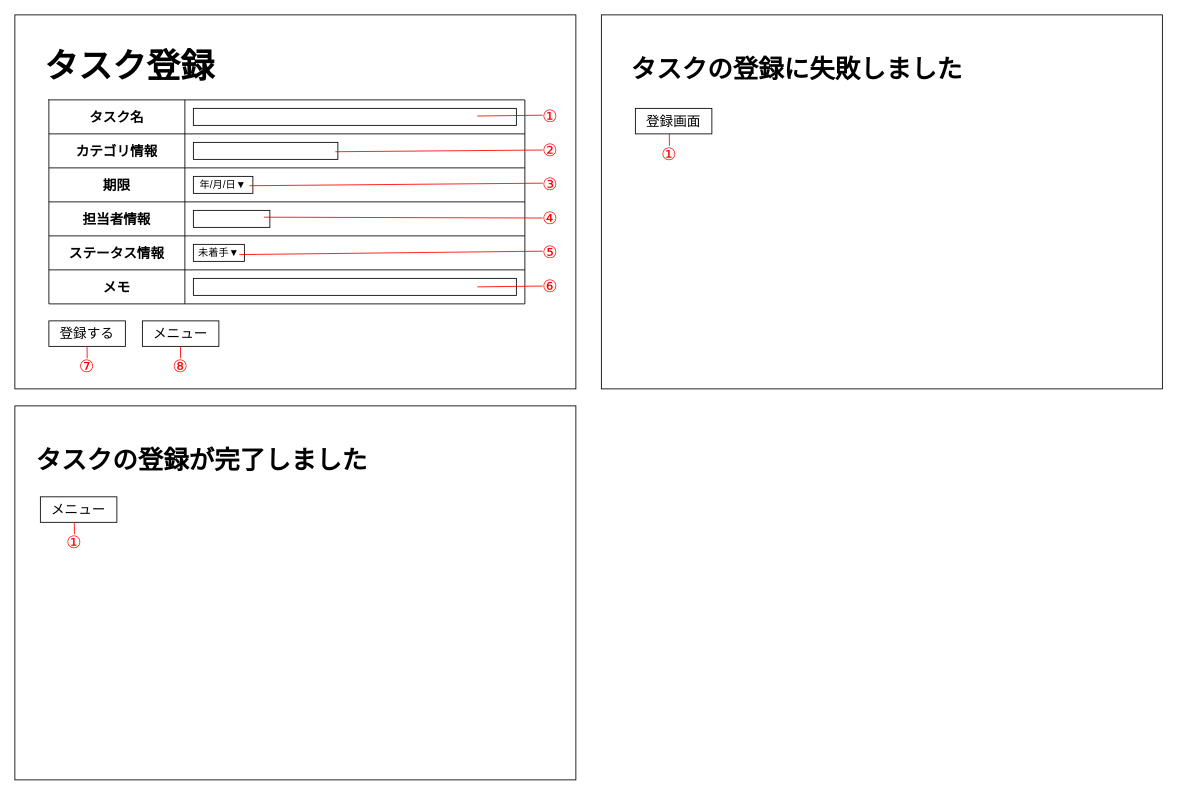
Some shapes in this 1177 by 795 pixel diagram are drawn without their labels. Here are the shapes that lost their labels. From the top down, the centre of each, then its label:
At pixel 265 150: "新商品A：開発プロジェクト▼".
At pixel 231 218: "本位田順也▼".
